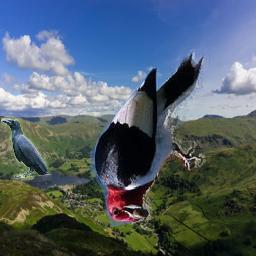Crow: (2, 119, 53, 186)
Woodpecker: (90, 47, 210, 233)
